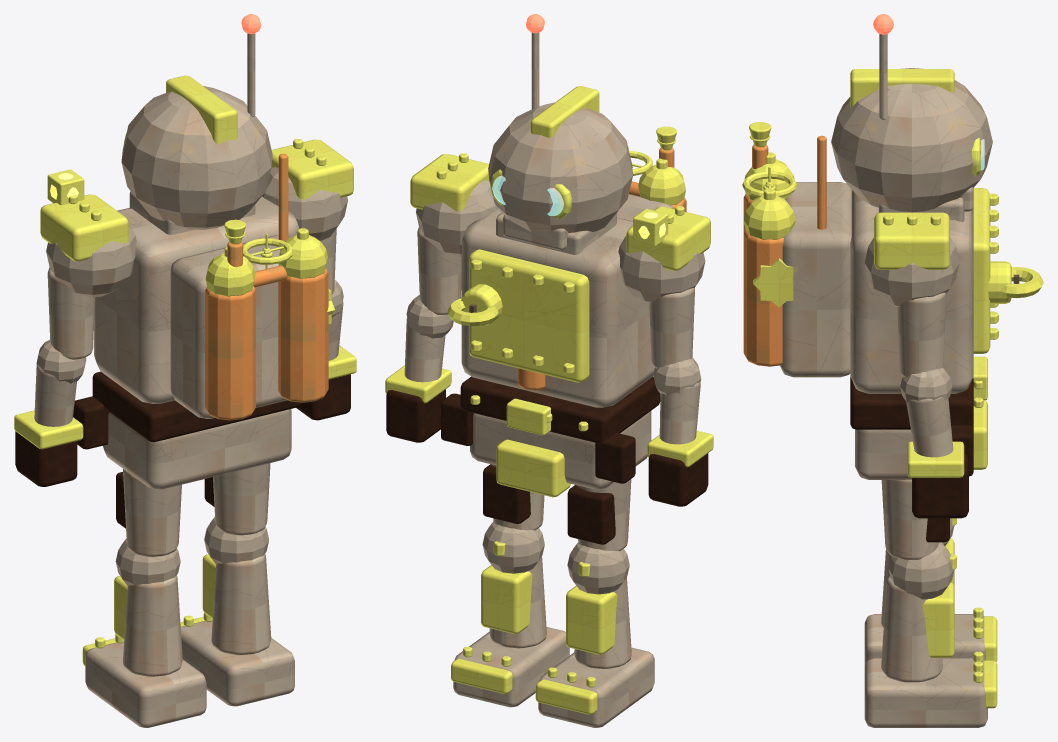
Rendered from ff-player.glb.
3 renders of one model, left to right at view 1: azimuth 30°, elevation 25°; view 2: azimuth 150°, elevation 25°; view 3: azimuth 270°, elevation 25°, orthographic. The views are drawn at different scales.
Parts seen in each view (by area): view 1: Helmet, Chest, Hips, Pack, Tank, Boot, Tank.001, Boot.001, Calf.001, Calf, Belt, Thigh (+26 smaller); view 2: Chest, Helmet, ChestPlate, Belt, Hips, Boot, Boot.001, Cod, UpperLimb, Greave.001, Greave, Pauldron.001 (+34 smaller); view 3: Helmet, Pack, Chest, Boot.001, Calf.001, Tank.001, Pauldron.001, UpperLimb.001, Belt, Shoulder.001, Thigh.001, ChestPlate (+24 smaller).
Part boxes in pixels (x1,y1,x2,y2): Helmet: [121, 86, 272, 229]; Chest: [94, 196, 299, 403]; Hips: [103, 409, 291, 489]; Pack: [170, 235, 289, 418]; Tank: [205, 286, 255, 420]; Boot: [85, 642, 206, 727]; Tank.001: [278, 268, 328, 402]; Boot.001: [180, 621, 294, 706]; Calf.001: [211, 554, 271, 654]; Calf: [123, 575, 182, 676]; Belt: [92, 371, 301, 442]; Thigh: [123, 469, 181, 556]; Chest: [461, 208, 654, 407]; Helmet: [488, 102, 632, 232]; ChestPlate: [469, 249, 589, 382]; Belt: [460, 376, 660, 442]; Hips: [470, 411, 651, 489]; Boot: [538, 647, 654, 727]; Boot.001: [453, 627, 569, 707]; Cod: [496, 439, 570, 497]; UpperLimb: [649, 288, 694, 368]; Greave.001: [481, 565, 532, 633]; Greave: [566, 585, 617, 654]; Pauldron.001: [410, 154, 489, 211]; Helmet: [831, 68, 992, 212]; Pack: [780, 182, 851, 377]; Chest: [850, 189, 973, 393]; Boot.001: [864, 658, 987, 727]; Calf.001: [881, 576, 942, 682]; Tank.001: [743, 230, 783, 366]; Pauldron.001: [874, 212, 949, 269]; UpperLimb.001: [897, 292, 946, 376]; Belt: [850, 377, 973, 429]; Shoulder.001: [864, 237, 959, 306]; Thigh.001: [881, 479, 938, 559]; ChestPlate: [973, 188, 990, 353].
Bounding box in the file's own units: 0.79 × 1.62 × 0.6358.
Materials: 12 (8 with a texture image).
